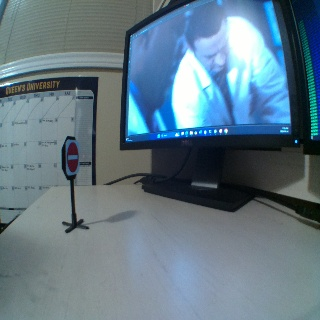sign_noentry: (64, 139, 78, 173)
